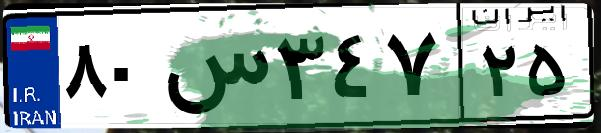0: (110, 28, 158, 98)
2: (475, 38, 525, 113)
3: (270, 28, 330, 110)
4: (330, 28, 385, 110)
5: (525, 38, 570, 115)
7: (385, 28, 445, 110)
8: (57, 26, 110, 100)
س: (158, 20, 270, 120)
